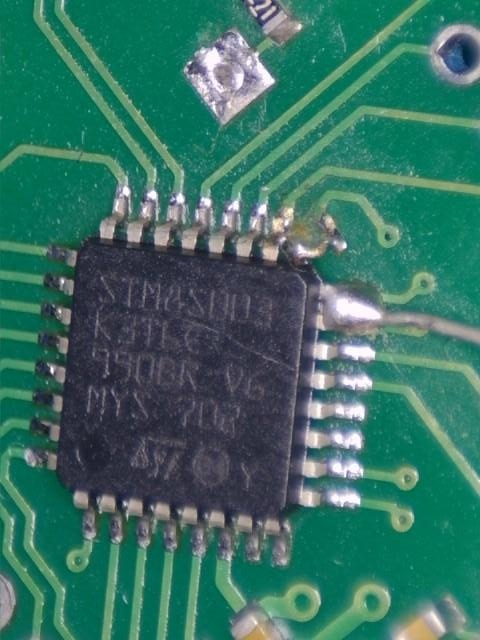pcb_defect: (183, 28, 274, 126), (306, 284, 383, 334), (294, 199, 349, 258)
